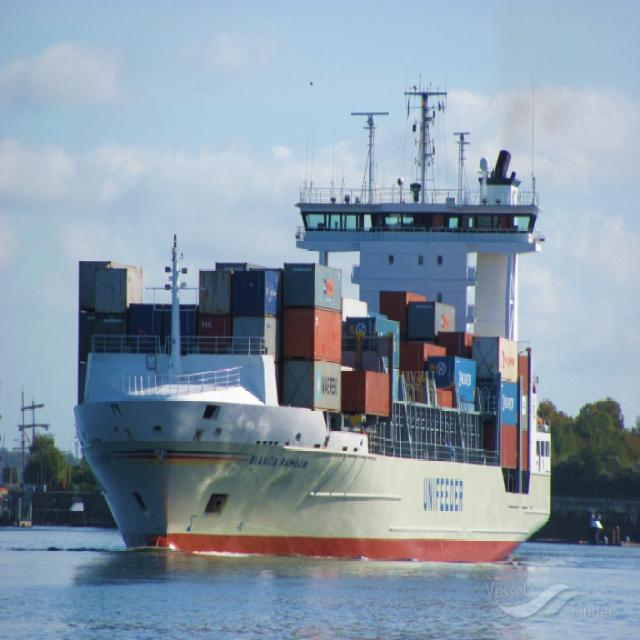Container Ship: (72, 177, 550, 568)
